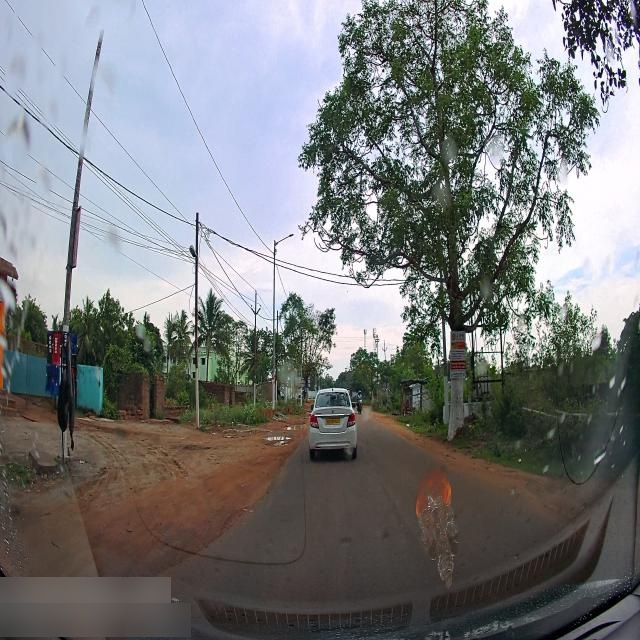pothole: (262, 430, 296, 442), (282, 421, 301, 431)
